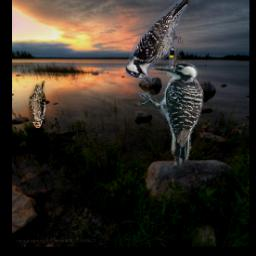Woodpecker: (134, 62, 206, 166), (125, 0, 190, 83), (28, 82, 45, 129)
